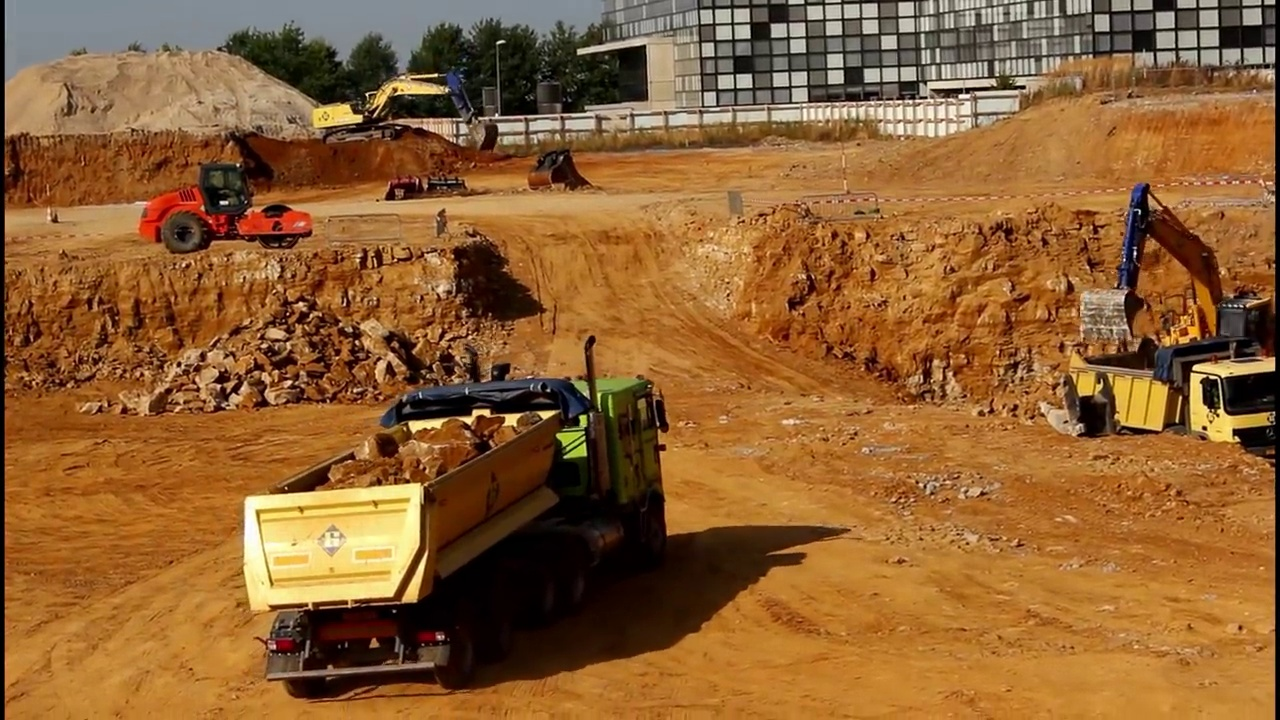compactor: (138, 162, 316, 255)
excavator: (1074, 179, 1280, 421), (313, 68, 502, 155)
truck: (241, 331, 681, 700), (1064, 340, 1280, 477)
